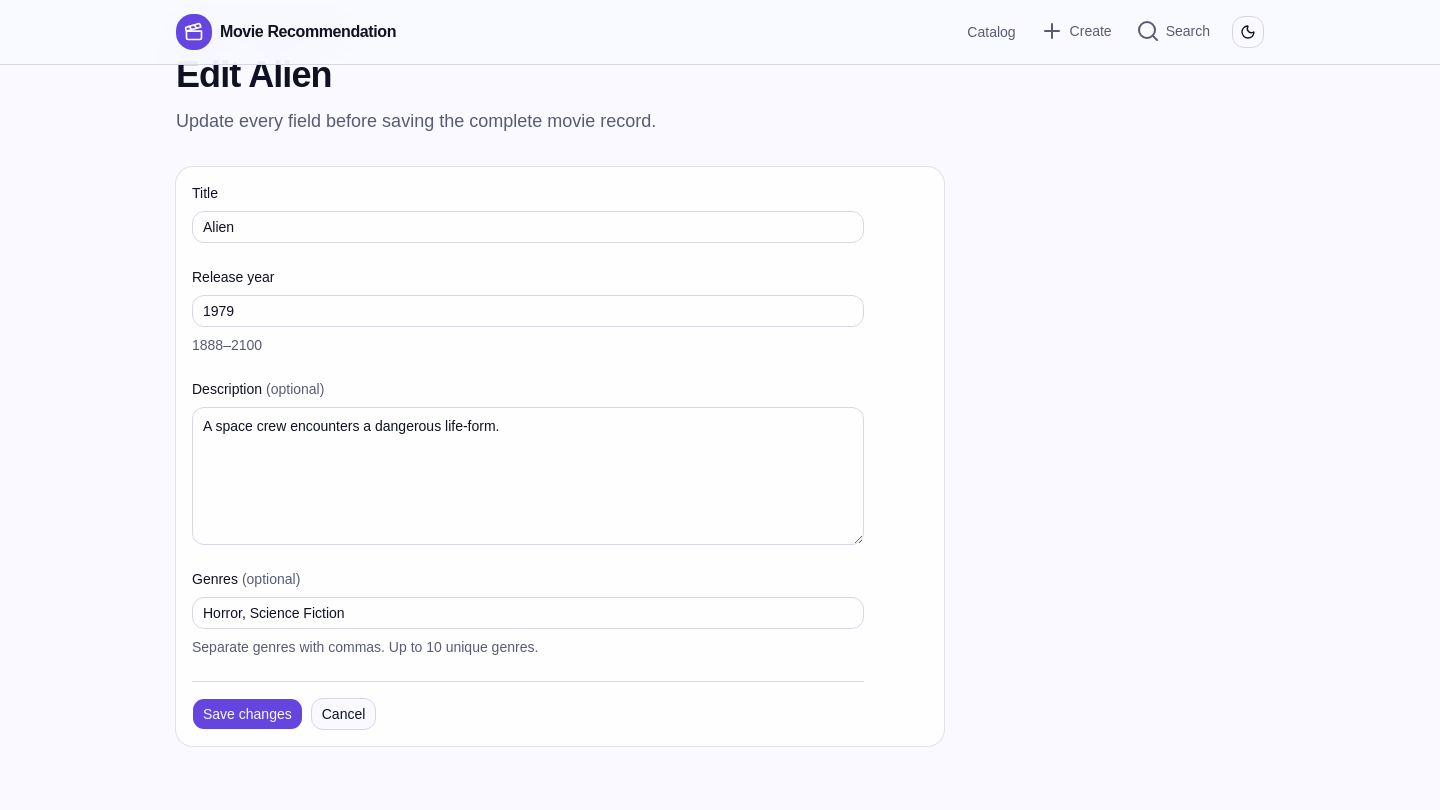
Test: edit movie page › shows that a movie disappeared while saving
(page scrolled)
Check: the field labelled "Title" is shown, box left=192, top=211, right=864, bottom=243
Click the button "Save changes". click: (247, 714)
box: left=192, top=698, right=303, bottom=730
(page scrolled)
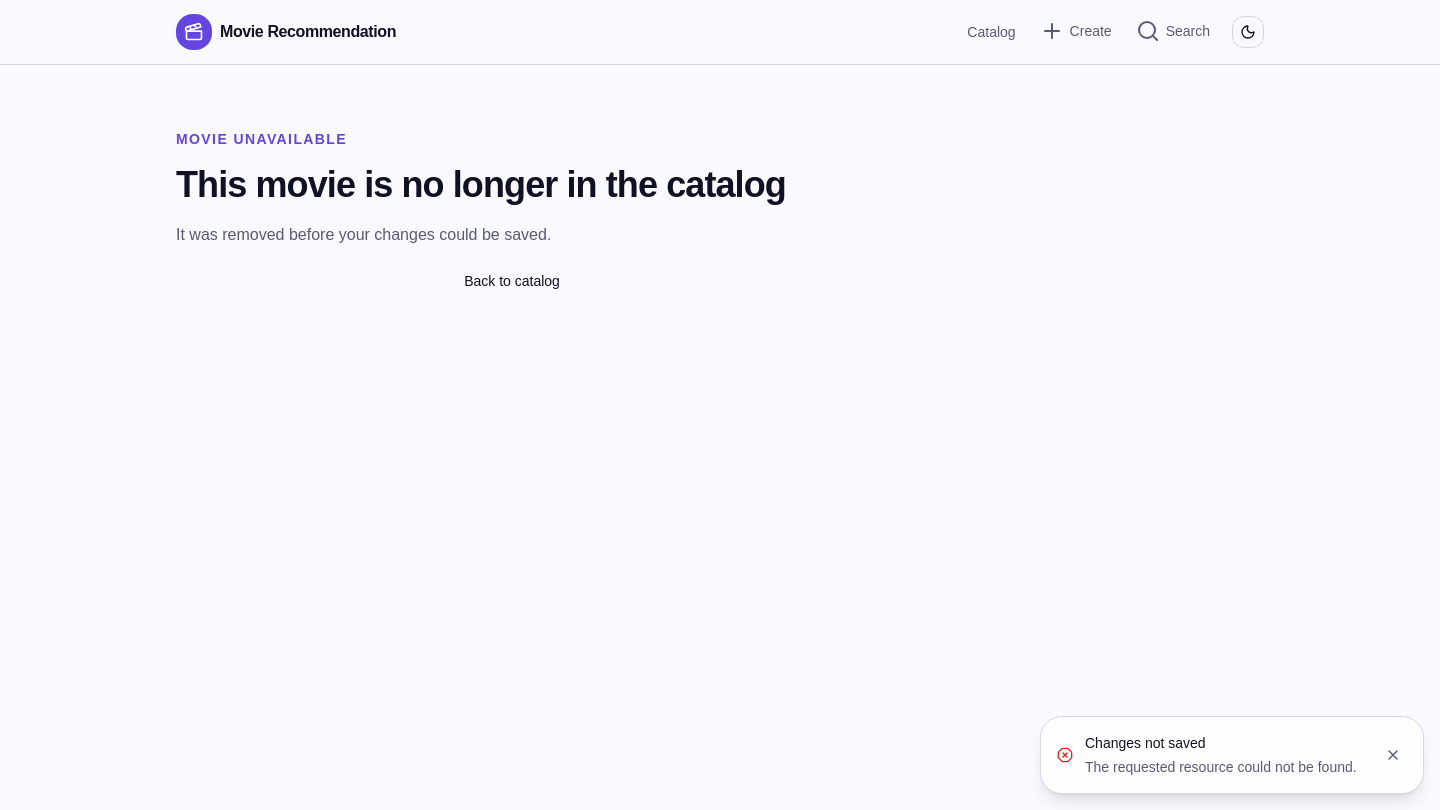
Check: the heading "This movie is no longer in the catalog" is shown, box left=176, top=165, right=848, bottom=205
